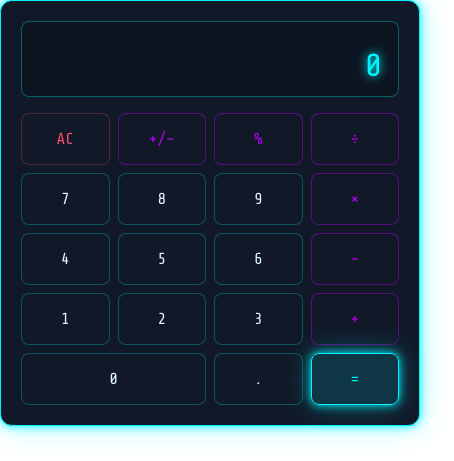
Calculator — basic arithmetic › subtracts two numbers
Click the button "9": x=258, y=199 [214, 173, 302, 225]
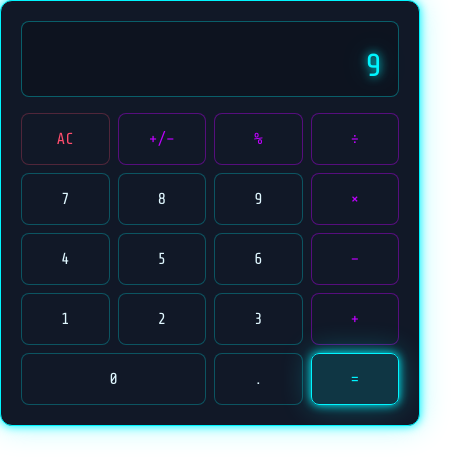
Click the button "−": x=355, y=259 [310, 233, 399, 285]
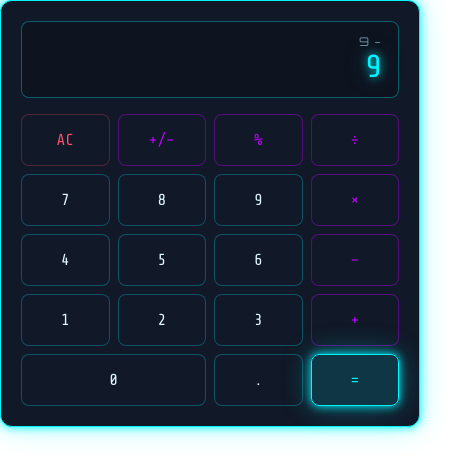
Click the button "4": x=65, y=260 [21, 234, 110, 286]
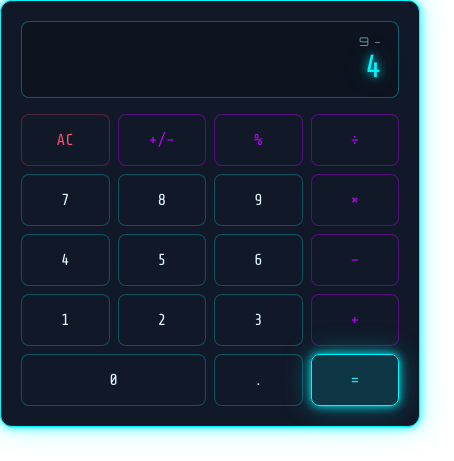
Click the button "=": x=355, y=380 [310, 354, 399, 406]
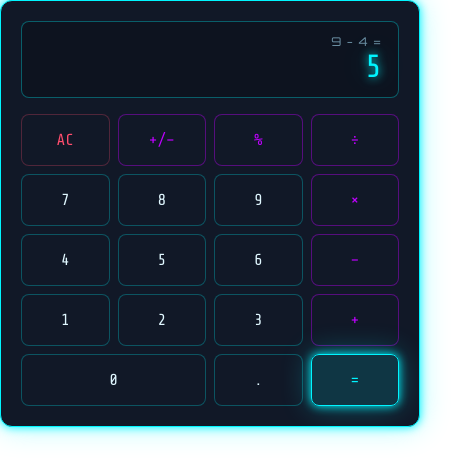
Expected: the text with class "display-value" reads "5", [365, 49, 382, 85]
